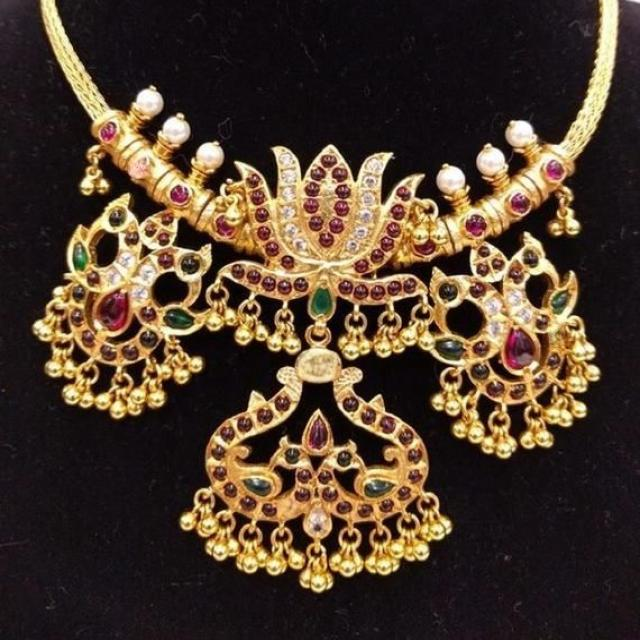missing gem: (299, 351, 338, 380), (130, 156, 149, 175), (282, 501, 296, 516), (553, 336, 563, 348)
